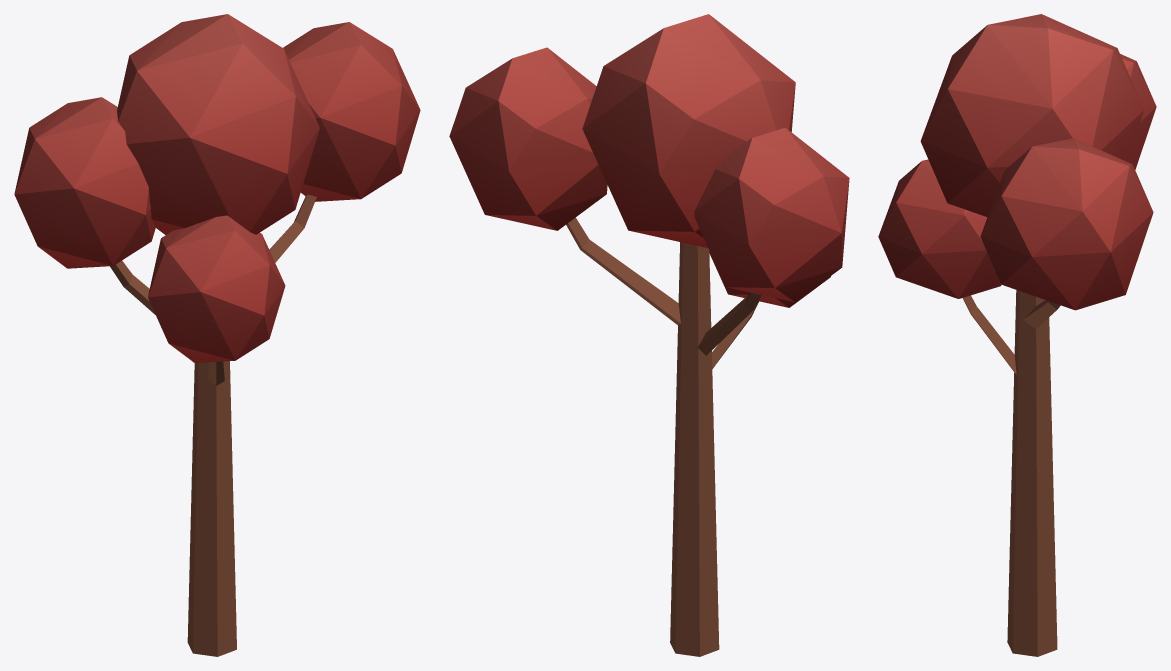
File: Tree_35_gradient_red_vc.fbx
The picture shows the model from 3 angles, left to right: view 1: azimuth 30°, elevation 25°; view 2: azimuth 150°, elevation 25°; view 3: azimuth 270°, elevation 25°; orthographic projection.
Visible parts, largest first — view 1: Tree_35_gradient_red_vc; view 2: Tree_35_gradient_red_vc; view 3: Tree_35_gradient_red_vc.
Boxes of the visible parts, x1=… form: Tree_35_gradient_red_vc: x1=14, y1=14, x2=420, y2=656; Tree_35_gradient_red_vc: x1=449, y1=14, x2=849, y2=656; Tree_35_gradient_red_vc: x1=878, y1=14, x2=1156, y2=656.
Bounding box in the file's own units: 423 × 658 × 264.
